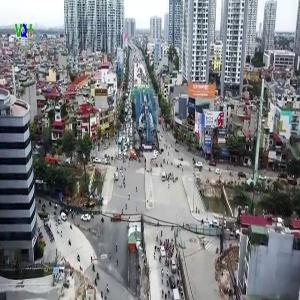drone: (11, 123, 80, 192)
